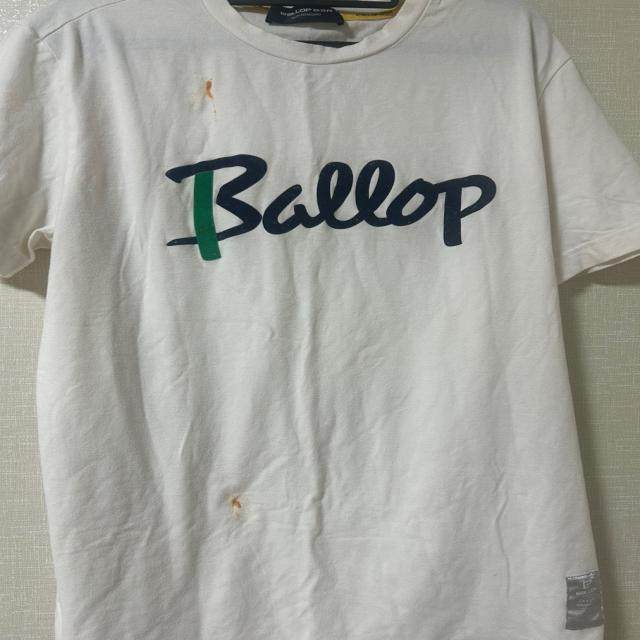stain: (196, 76, 224, 102), (208, 105, 226, 126), (227, 496, 245, 516)
